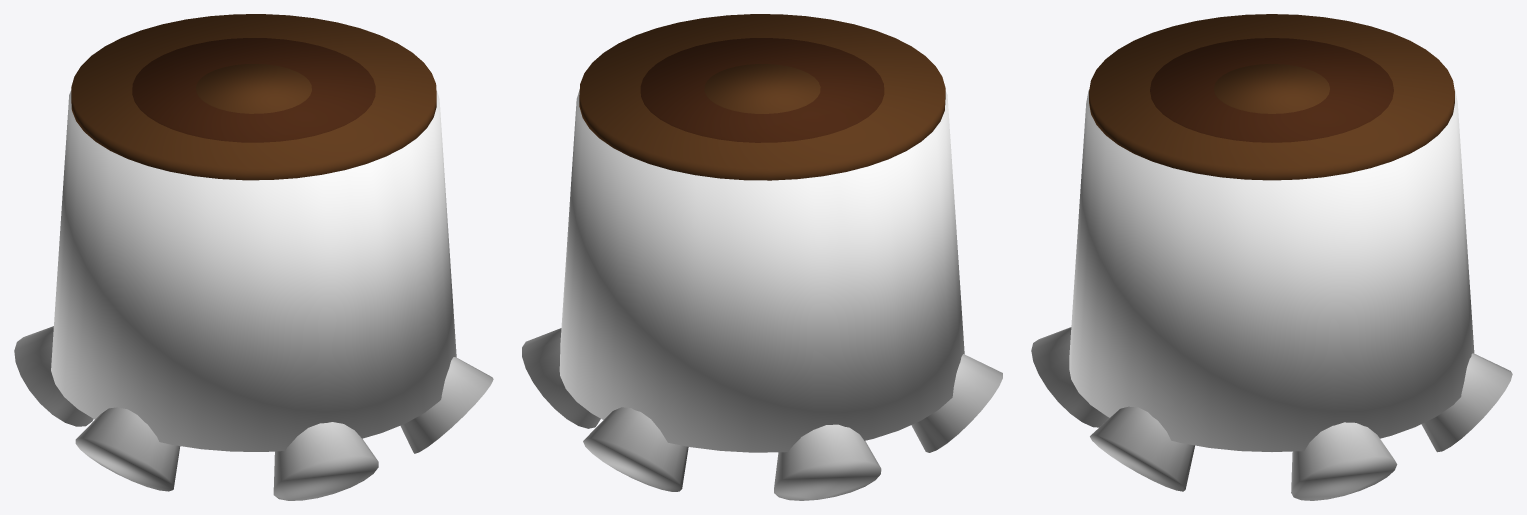
The model's file is tree-stump.obj.
3 renders of one model, left to right at view 1: azimuth 30°, elevation 25°; view 2: azimuth 150°, elevation 25°; view 3: azimuth 270°, elevation 25°, orthographic.
Visible parts, largest first — view 1: tree-stump; view 2: tree-stump; view 3: tree-stump.
Part boxes in pixels (bbox=[...]): tree-stump: bbox=[14, 14, 493, 500]; tree-stump: bbox=[522, 14, 1002, 500]; tree-stump: bbox=[1031, 14, 1512, 500].
Bounding box in the file's own units: 0.8004 × 0.6564 × 0.829.
